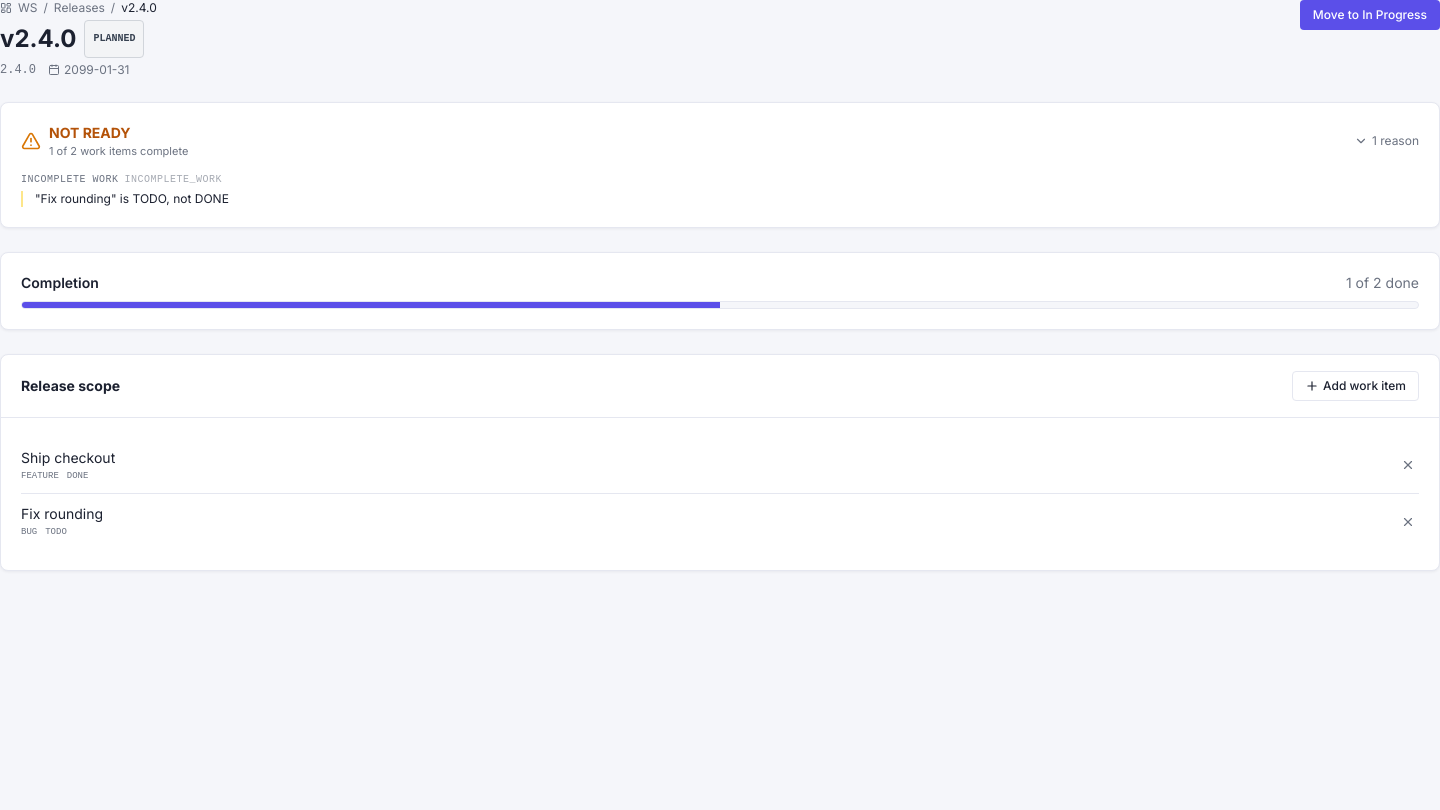
Test: ReleaseDetail › only offers work items that are not already in a release
Click the button "Add work item".
click(1356, 386)  # box 1292,370 -> 1419,400
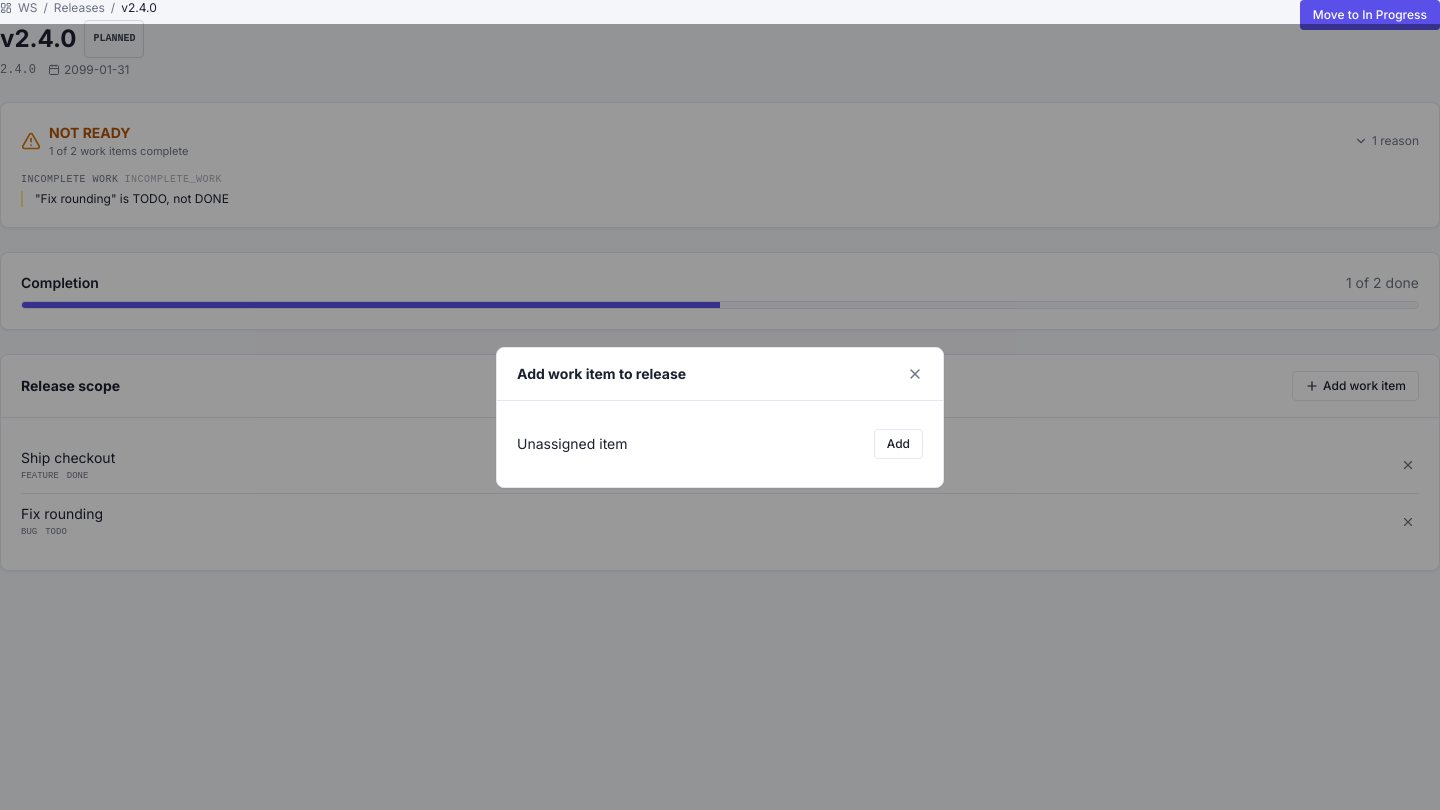
Expected: the text "Fix rounding" is shown, 21,504 -> 103,524
Result: the text "Unassigned item" is shown at 517,434 -> 628,454
